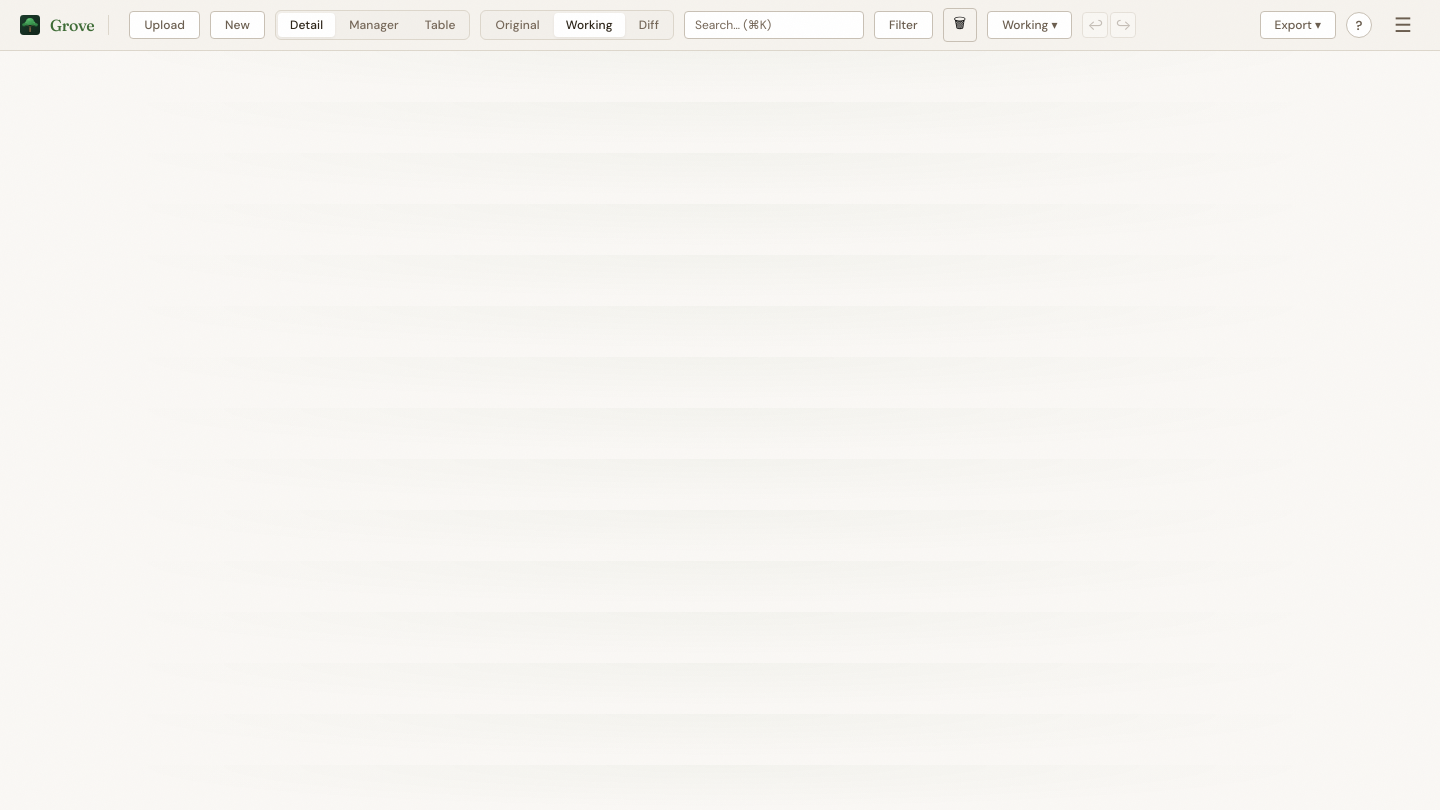
Test: Toolbar — branch coverage › hamburger menu › opens Settings modal when Settings is clicked
This screenshot has width=1440, height=810.
Click the button named "Menu".
click(1403, 25)  # box [1386,11,1420,39]
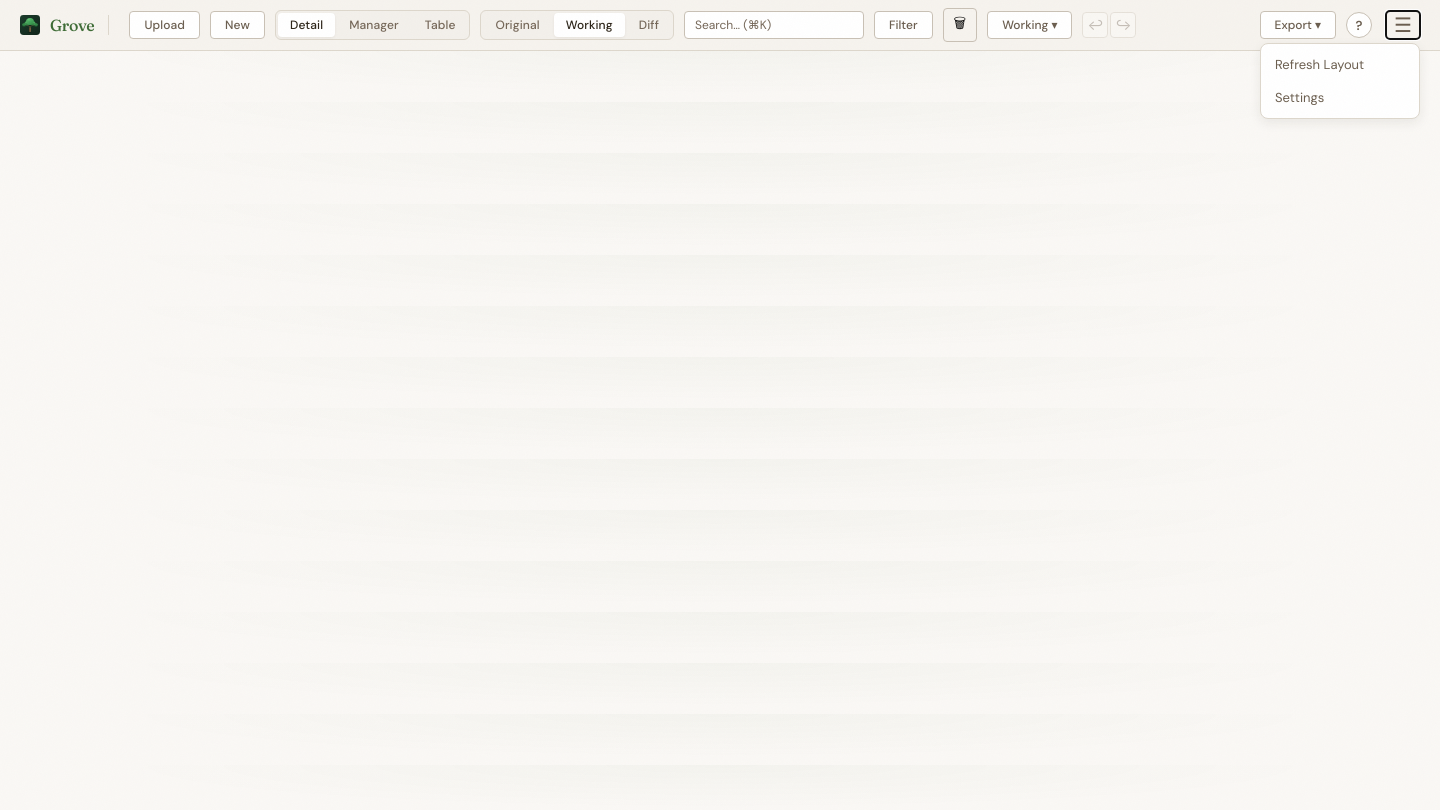
Click the button "Settings".
click(1340, 98)  # box [1261,81,1419,114]
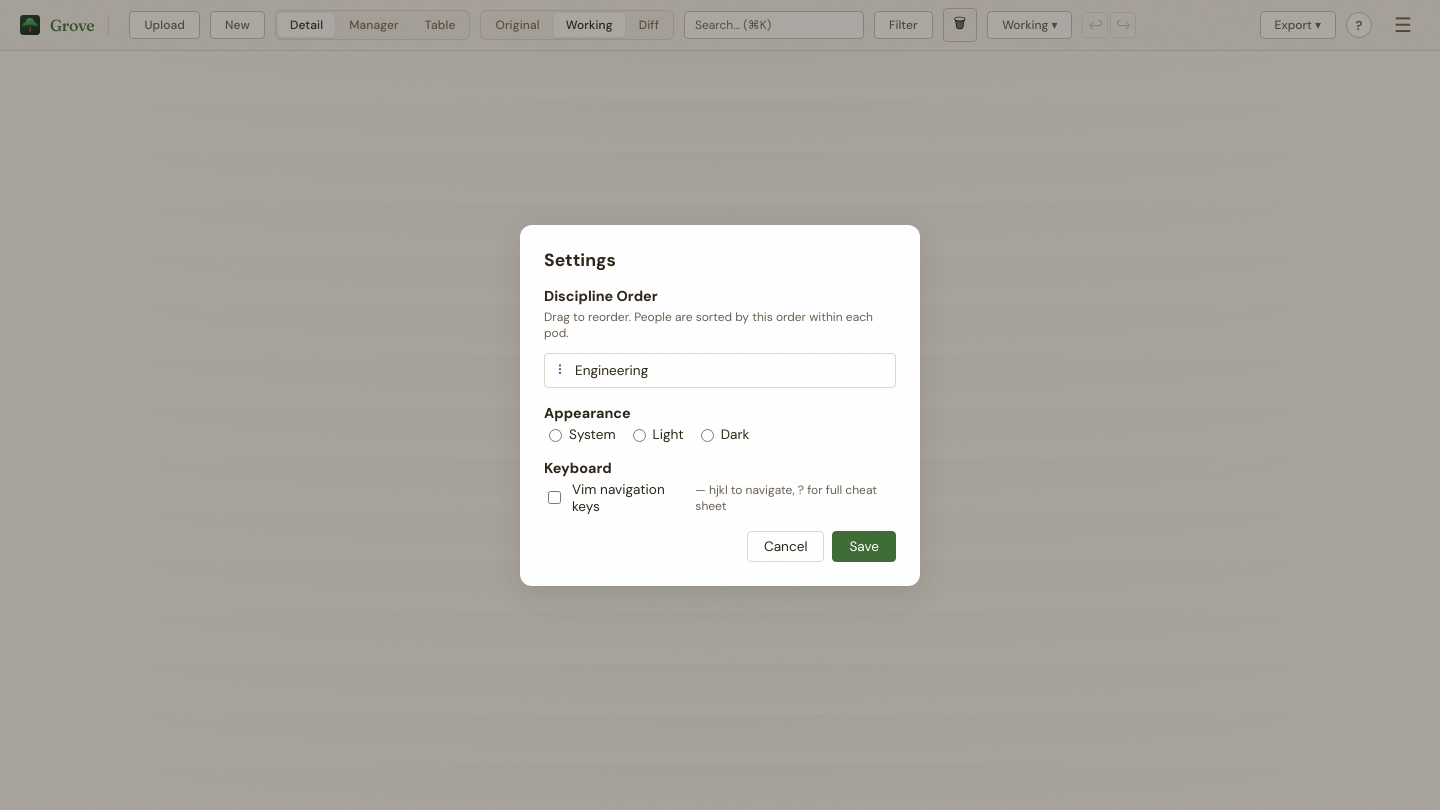
Now the button named "Menu" is collapsed, box [1386,11,1420,39]
